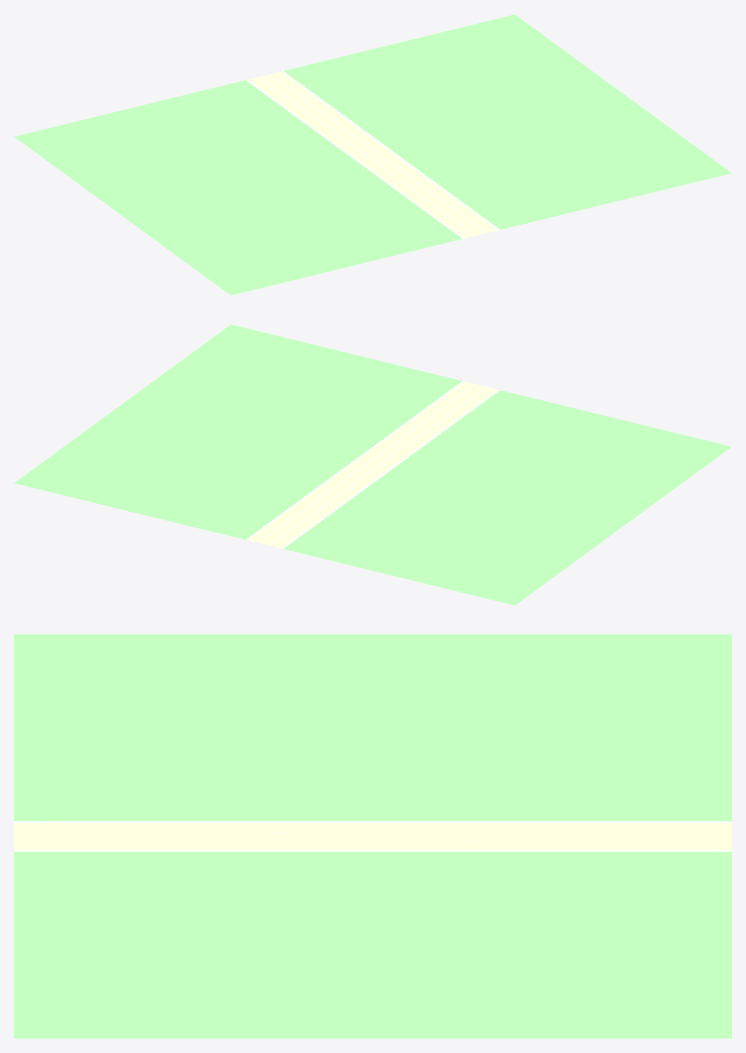
Rendered from athletics.gltf.
3 renders of one model, top to bottom at view 1: azimuth 30°, elevation 25°; view 2: azimuth 150°, elevation 25°; view 3: azimuth 270°, elevation 25°, orthographic. The views are drawn at different scales.
Parts seen in each view (by area): view 1: Plane.001, Plane; view 2: Plane.001, Plane; view 3: Plane.001, Plane.
Boxes of the visible parts, box(x1,y1,x2,y2) form: Plane.001: box(14, 14, 731, 295); Plane: box(246, 71, 499, 238); Plane.001: box(14, 324, 731, 605); Plane: box(246, 381, 499, 548); Plane.001: box(14, 634, 731, 1038); Plane: box(14, 821, 731, 851).
Size of the model in its own units: 200 by 0.01 by 150.
